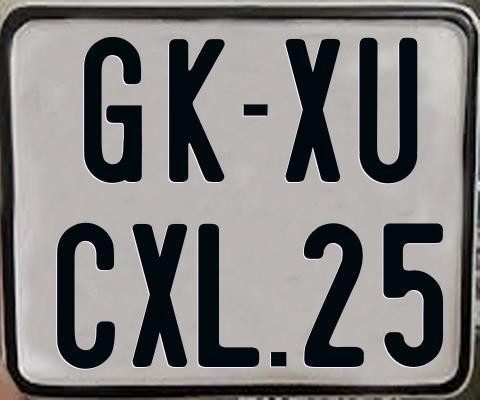2: (302, 222, 362, 368)
5: (381, 222, 443, 369)
C: (57, 221, 120, 371)
G: (81, 34, 140, 185)
K: (167, 38, 226, 185)
L: (195, 222, 260, 365)
U: (357, 38, 416, 184)
X: (286, 36, 345, 185), (131, 224, 186, 370)
